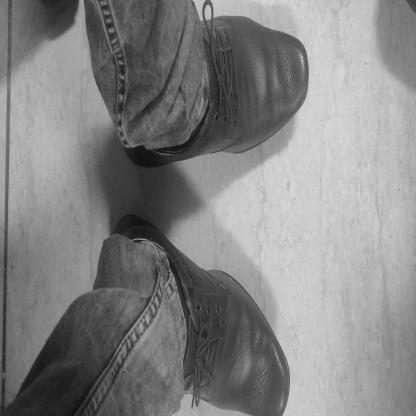ankle: (160, 243, 166, 254), (176, 153, 179, 160)
heel: (132, 154, 138, 161), (121, 225, 126, 232)
left_foot: (126, 18, 311, 170)
pinky: (292, 41, 298, 50), (261, 406, 266, 414)
right_foot: (113, 213, 291, 416)
toe: (298, 90, 304, 102), (277, 356, 283, 366)
